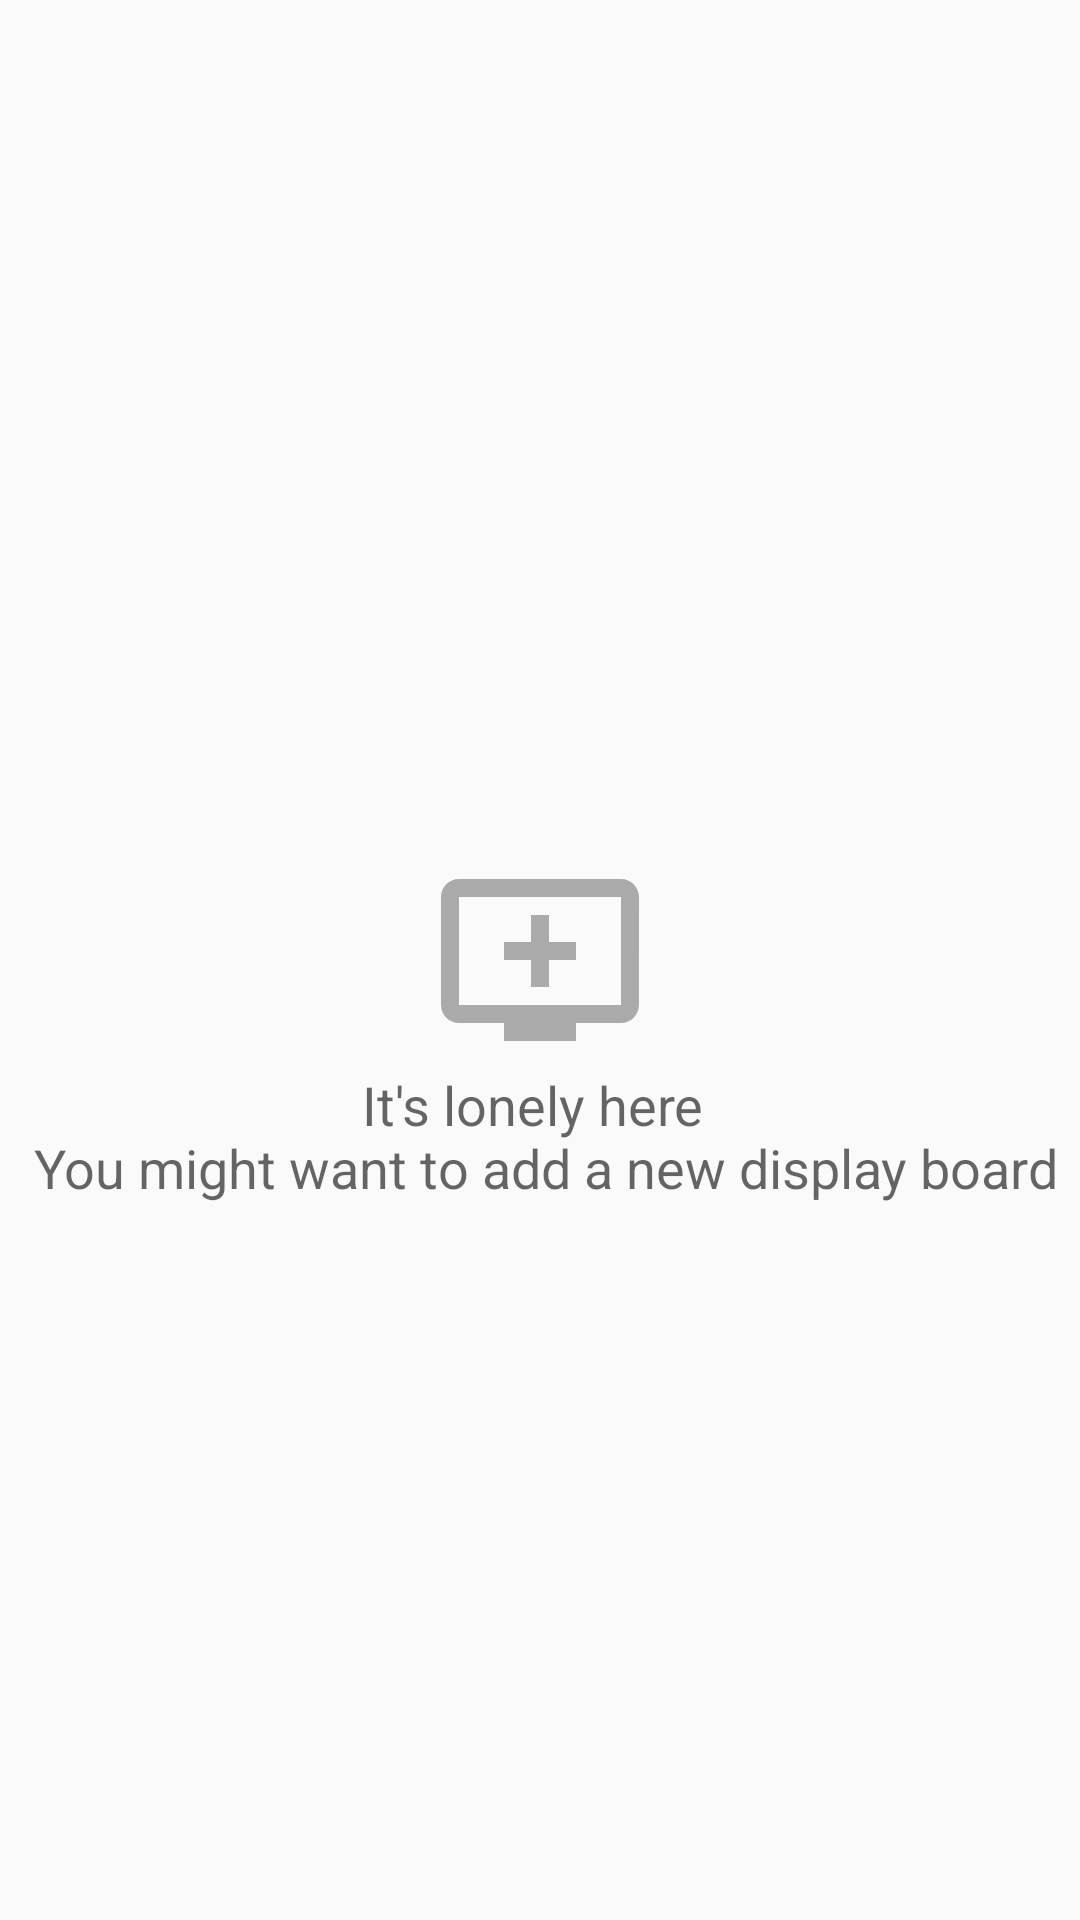

Screen size 1080 x 1920. Icon name, then its center in pixels as (x,y):
The list is empty image: (540,960)
